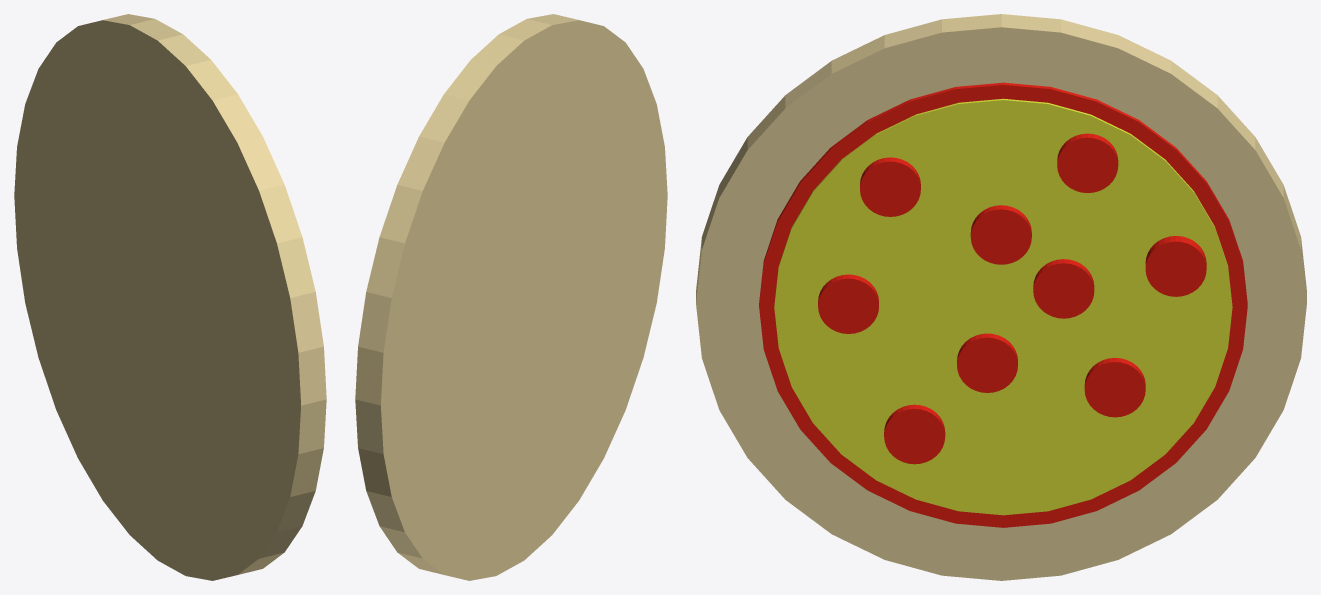
Rendered from Pizza.fbx.
The picture shows the model from 3 angles, left to right: view 1: azimuth 30°, elevation 25°; view 2: azimuth 150°, elevation 25°; view 3: azimuth 270°, elevation 25°; orthographic projection. The views are drawn at different scales.
Visible parts, largest first — view 1: Crust; view 2: Crust; view 3: Cheese, Crust, Sauce, Cheese.004, Cheese.001, Cheese.003, Cheese.008, Cheese.002, Cheese.005, Cheese.007, Cheese.006, Cheese.009.
Boxes of the visible parts, box(x1,y1,x2,y2) form: Crust: box(14, 14, 326, 580); Crust: box(355, 14, 667, 580); Cheese: box(774, 98, 1232, 515); Crust: box(696, 14, 1306, 580); Sauce: box(759, 82, 1247, 527); Cheese.004: box(1145, 236, 1206, 296); Cheese.001: box(970, 205, 1031, 264); Cheese.003: box(1033, 259, 1094, 318); Cheese.008: box(1084, 358, 1145, 417); Cheese.002: box(1057, 133, 1118, 192); Cheese.005: box(860, 157, 920, 216); Cheese.007: box(957, 333, 1017, 392); Cheese.006: box(818, 274, 878, 333); Cheese.009: box(884, 404, 945, 464).
Size of the model in its own units: 17.43 by 200 by 200.
